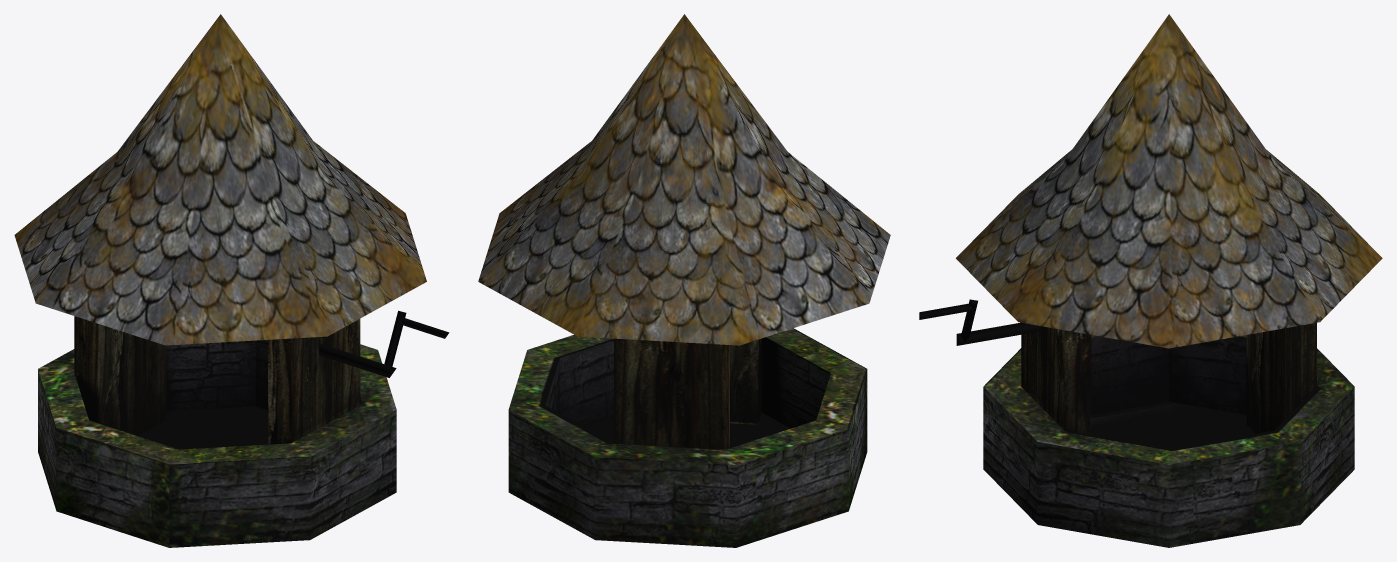
File: Structure_well.FBX
The picture shows the model from 3 angles, left to right: view 1: azimuth 30°, elevation 25°; view 2: azimuth 150°, elevation 25°; view 3: azimuth 270°, elevation 25°; orthographic projection.
Parts seen in each view (by area): view 1: well; view 2: well; view 3: well.
Boxes of the visible parts, box(x1,y1,x2,y2) form: well: box(14, 14, 449, 547); well: box(478, 14, 890, 547); well: box(919, 14, 1382, 547).
Bounding box in the file's own units: 603 × 712 × 654.
